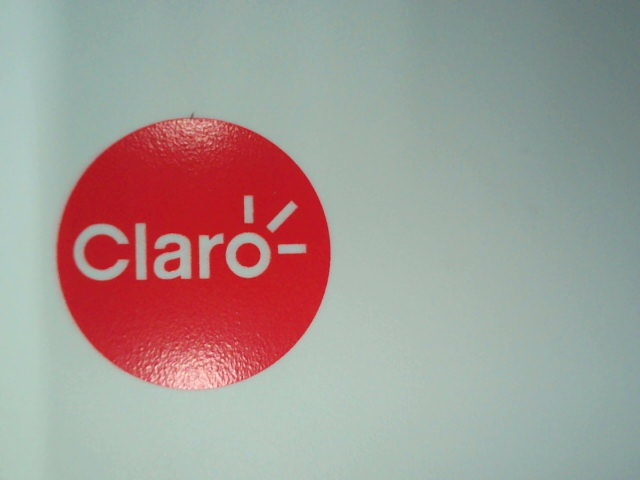BC_ClaorRed: (49, 115, 334, 393)
